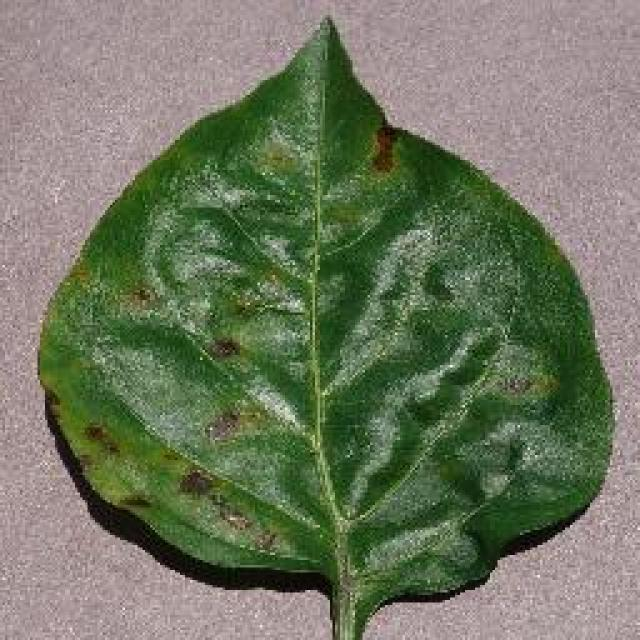Chilli_Bacterial_Spot: (32, 12, 620, 638), (480, 340, 562, 408), (248, 132, 302, 182), (415, 258, 457, 308), (365, 120, 400, 178), (78, 418, 122, 460), (173, 465, 215, 503), (202, 407, 242, 445), (202, 330, 242, 362), (125, 280, 157, 310)
